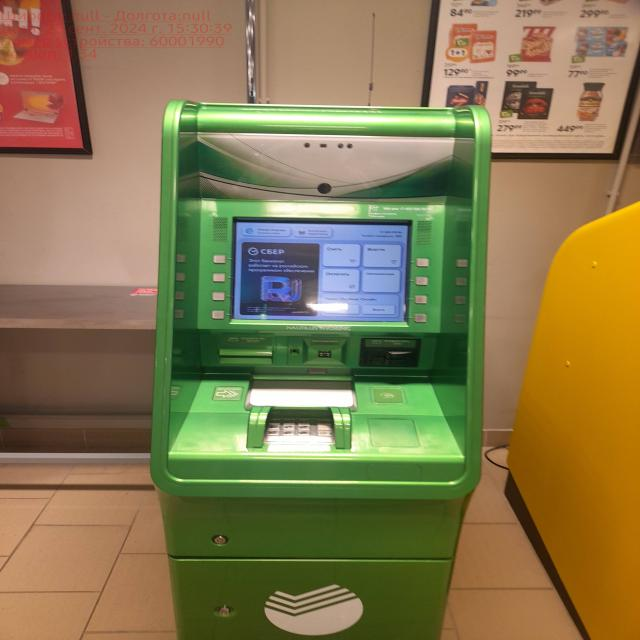bank: (154, 101, 496, 640)
